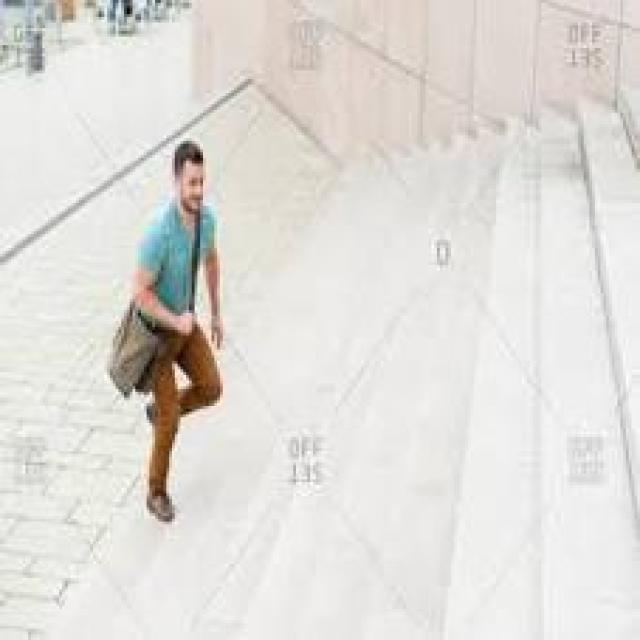upstair: (94, 441, 517, 616)
